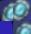mirror: (13, 0, 31, 21), (0, 0, 13, 21)
